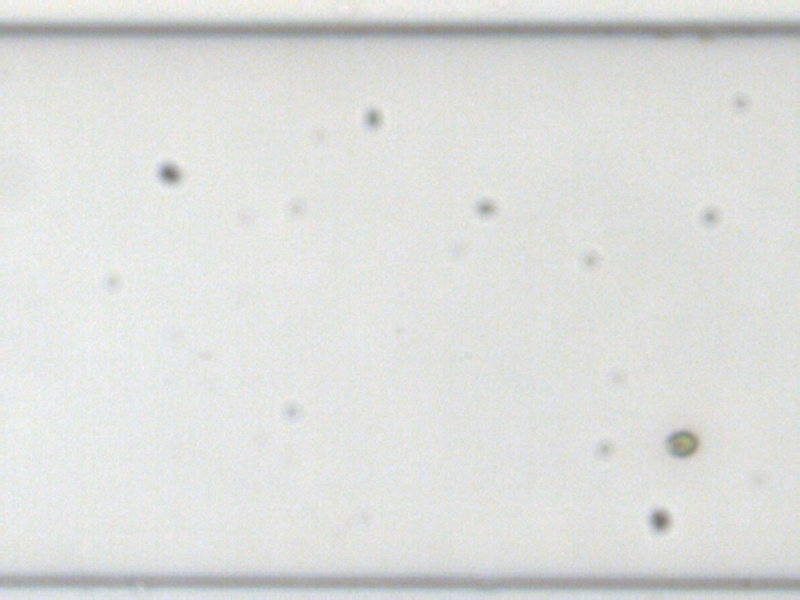Platymonas: (666, 431, 701, 457)
